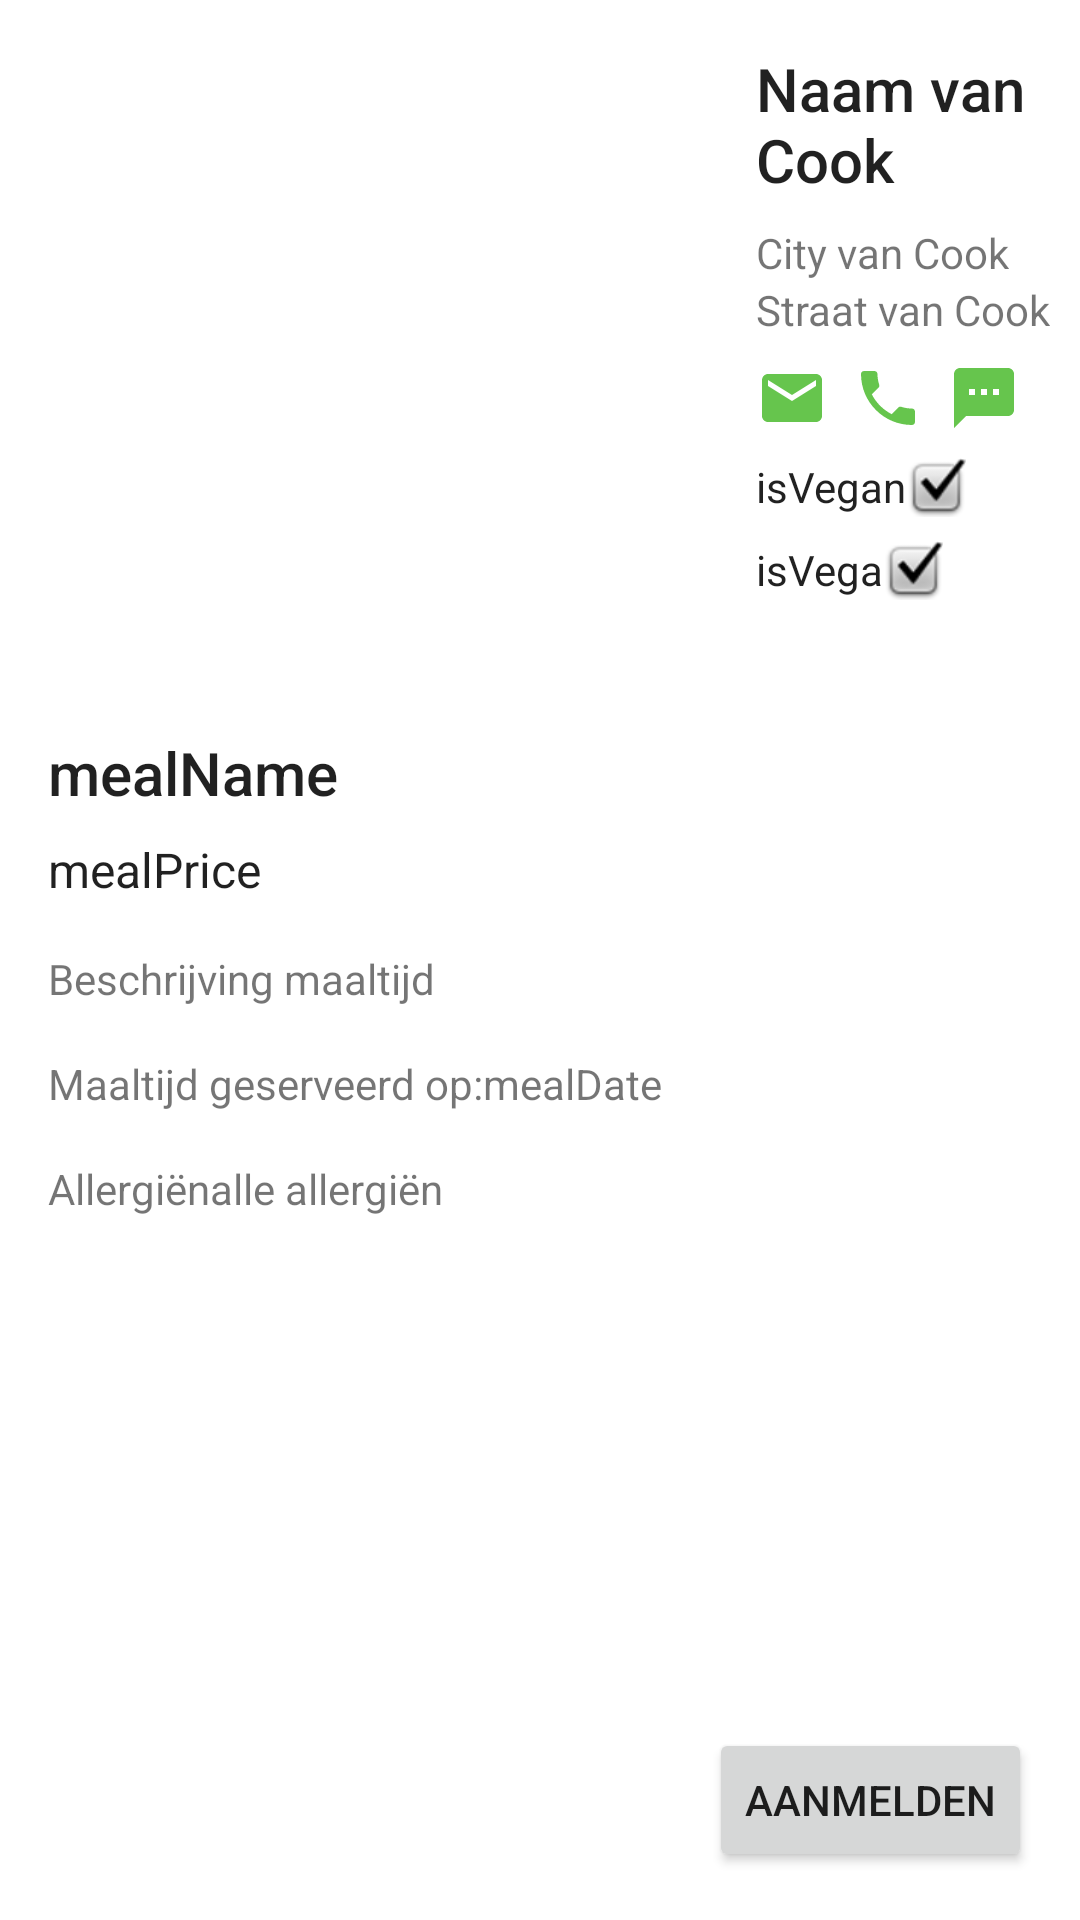

Where to tap for icons on this 1080×1920 app screen, as (x,y):
mail: (792,398)
phone: (888,398)
